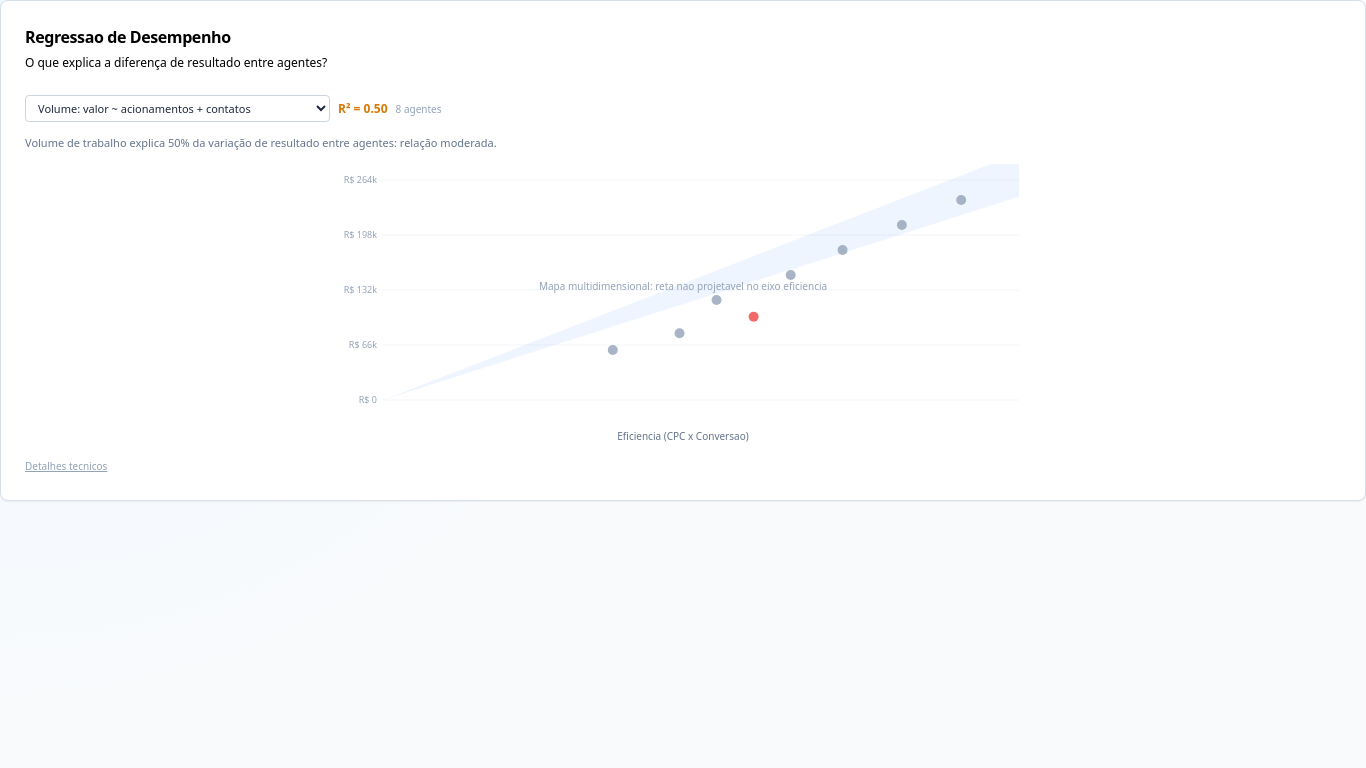
Test: RegressionView › coefficient table hidden by default, shown on toggle click
Click the button with test id "toggle-details" at (66, 466), box [25,459,107,474]
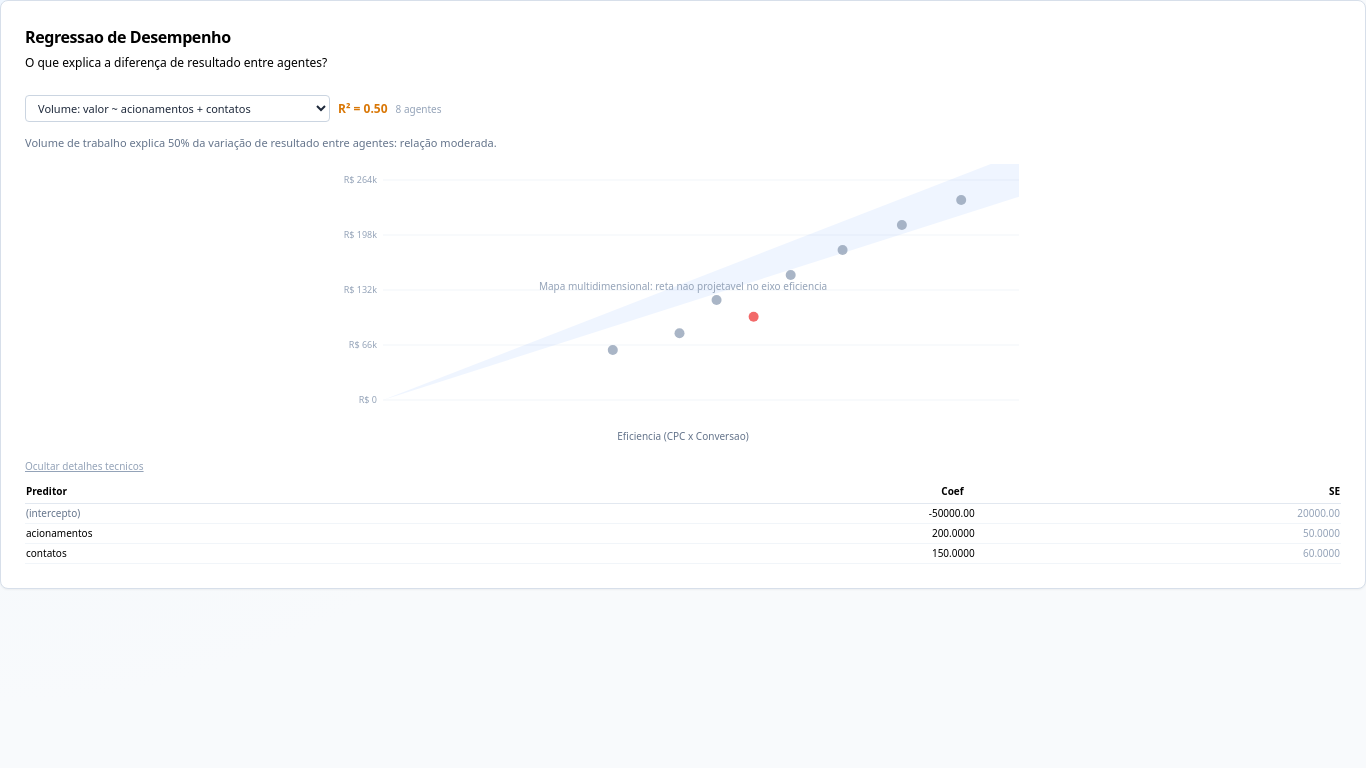
Result: the table with test id "coef-table" is shown at [25,480,1341,564]
